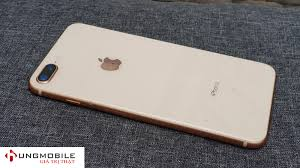iphone: (24, 21, 279, 152)
iphone8: (24, 20, 279, 151)
